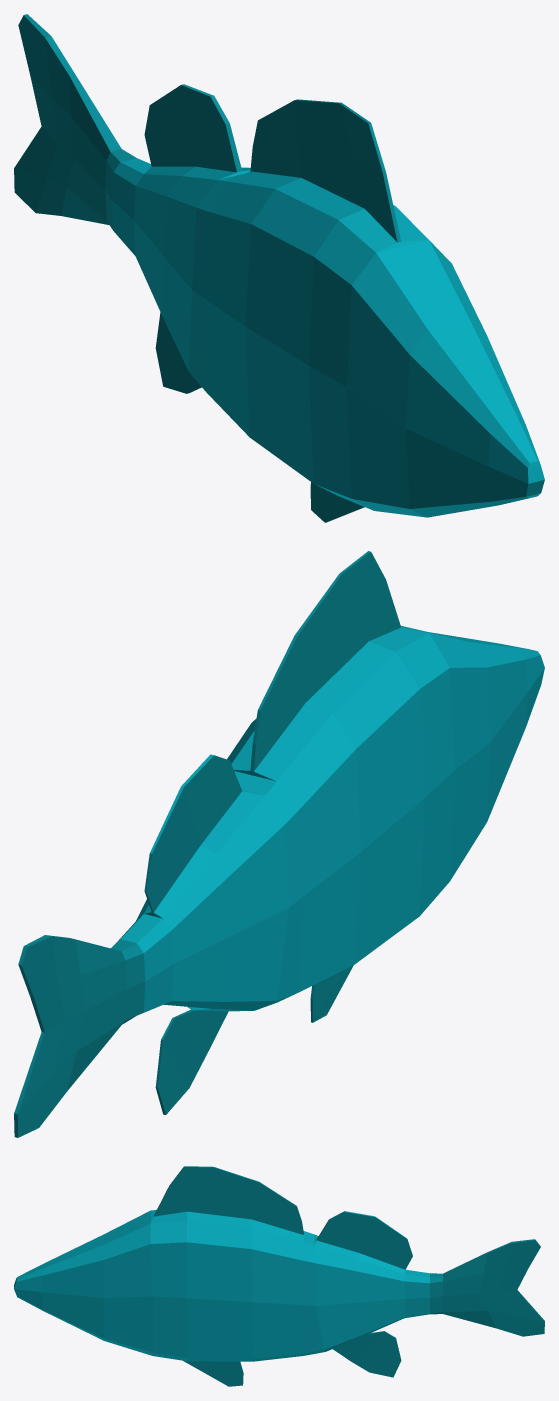
The model's file is fish_lp_4.fbx.
3 views of the same model, one above another, from view 1: azimuth 30°, elevation 25°; view 2: azimuth 150°, elevation 25°; view 3: azimuth 270°, elevation 25° (orthographic). The views are drawn at different scales.
Visible parts, largest first — view 1: Fish; view 2: Fish; view 3: Fish.
Boxes of the visible parts, bbox=[...] form: Fish: bbox=[14, 14, 544, 522]; Fish: bbox=[14, 551, 544, 1137]; Fish: bbox=[14, 1166, 544, 1386].
Size of the model in its own units: 40.68 by 144 by 315.
